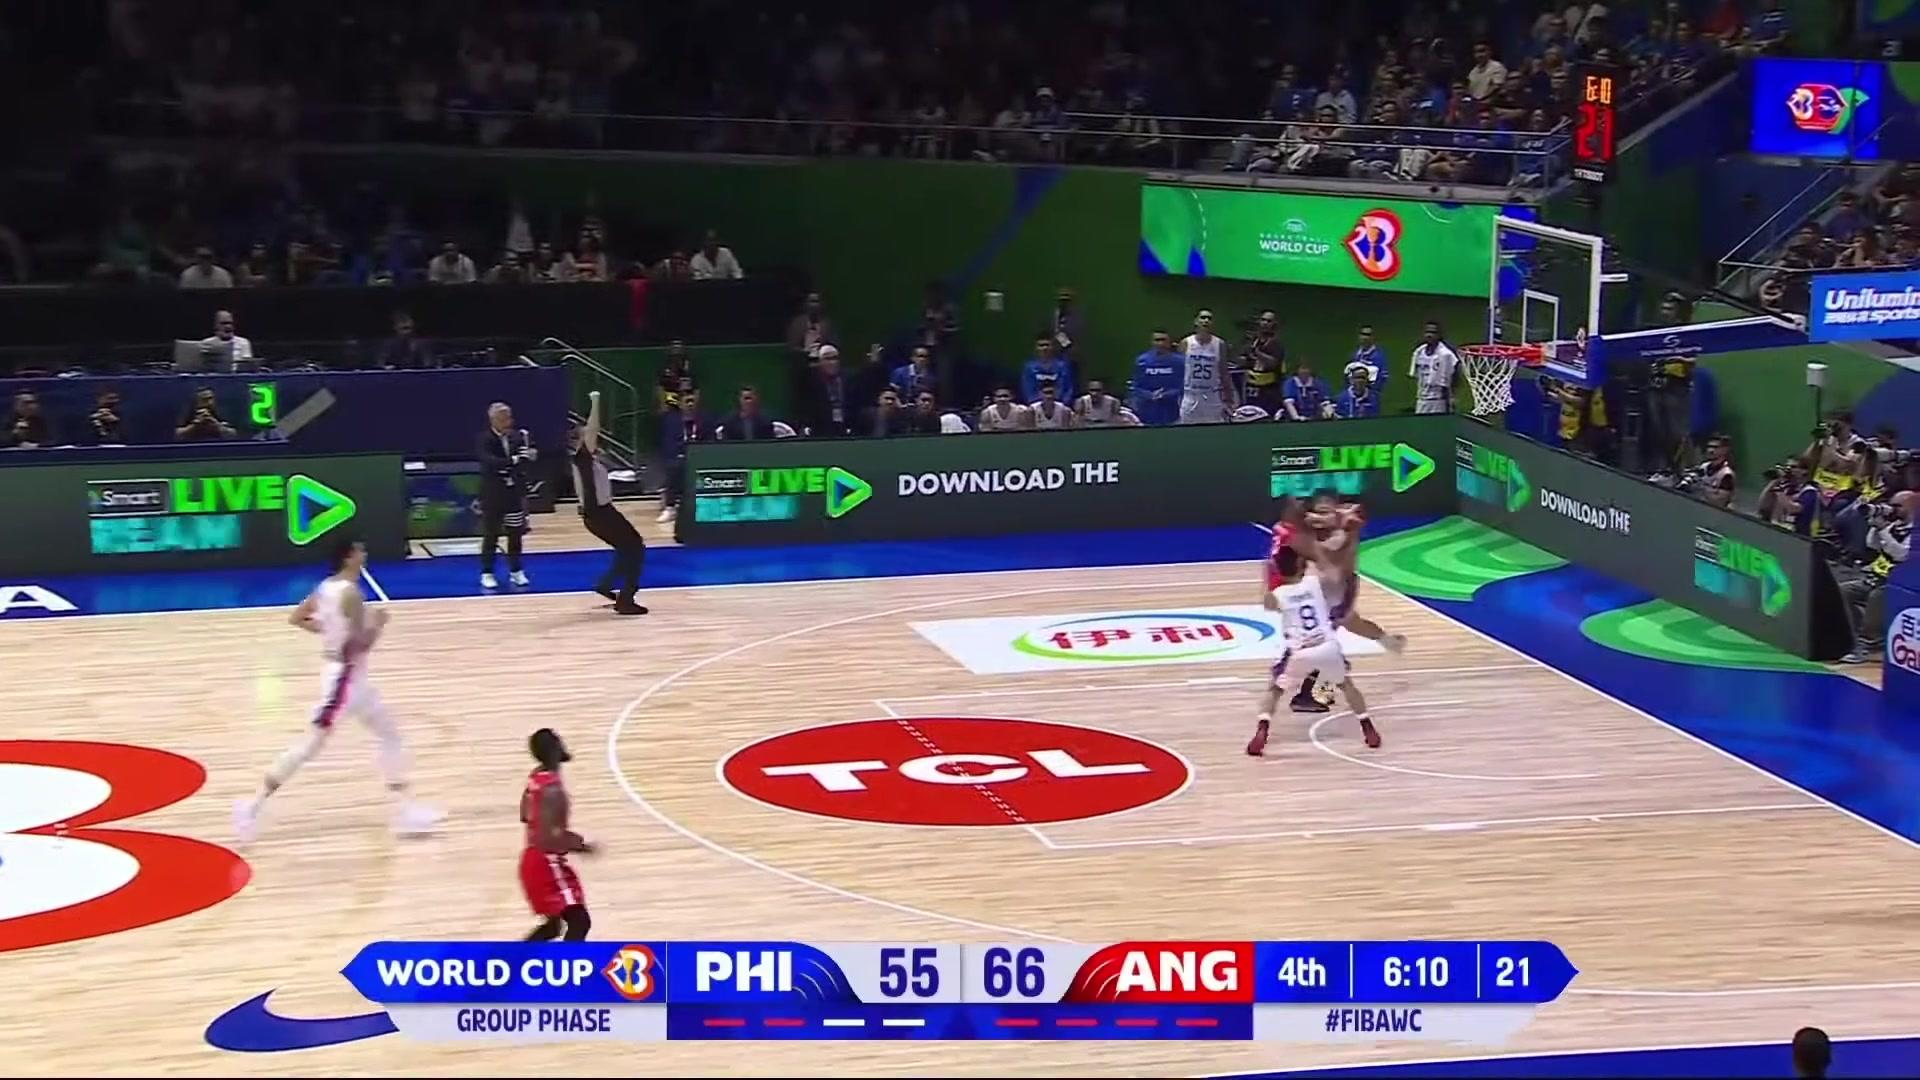foul: (1210, 464, 1406, 750)
